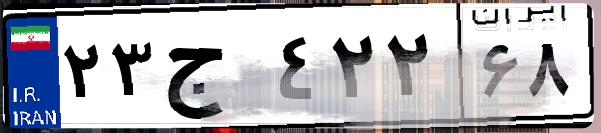2: (385, 28, 445, 110), (330, 28, 385, 110), (57, 26, 110, 100)
3: (110, 28, 158, 98)
4: (270, 28, 330, 110)
6: (475, 38, 525, 113)
8: (525, 38, 570, 115)
ج: (158, 20, 270, 120)
